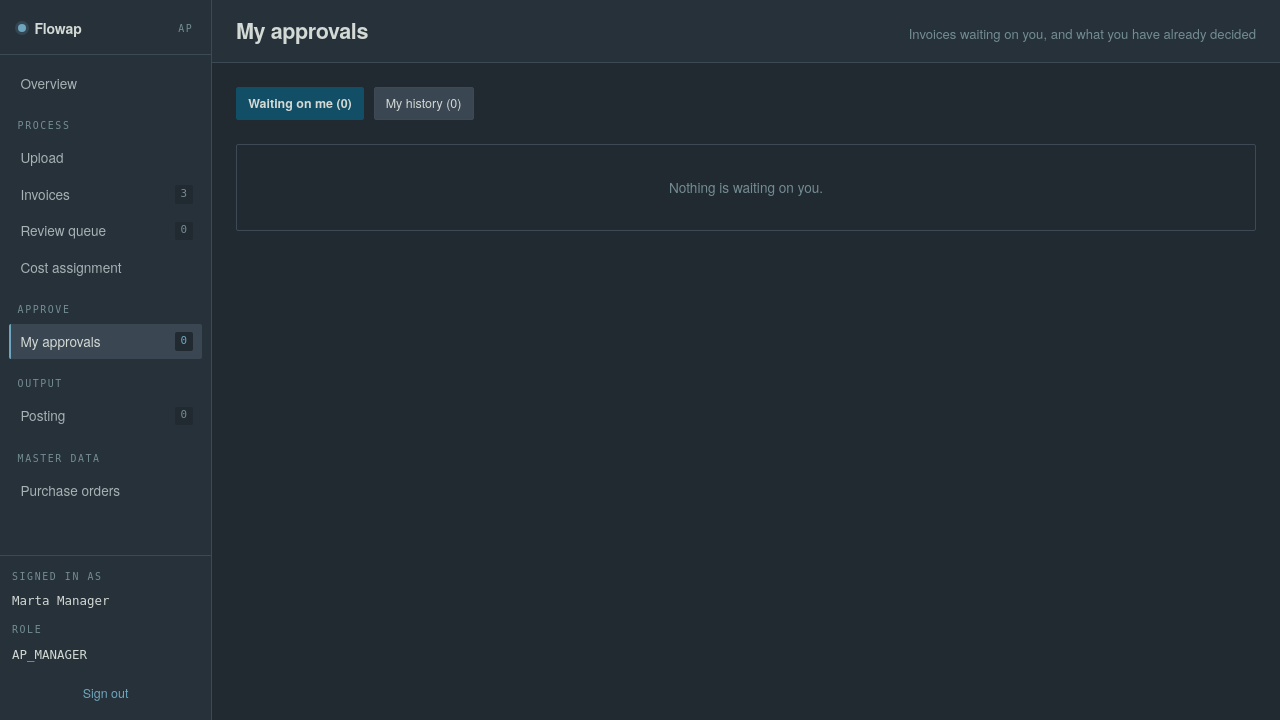
it: a token the server will not accept › signs out on request
The width and height of the screenshot is (1280, 720).
Click the button "Sign out": point(106, 693) x1=12 y1=680 x2=199 y2=707
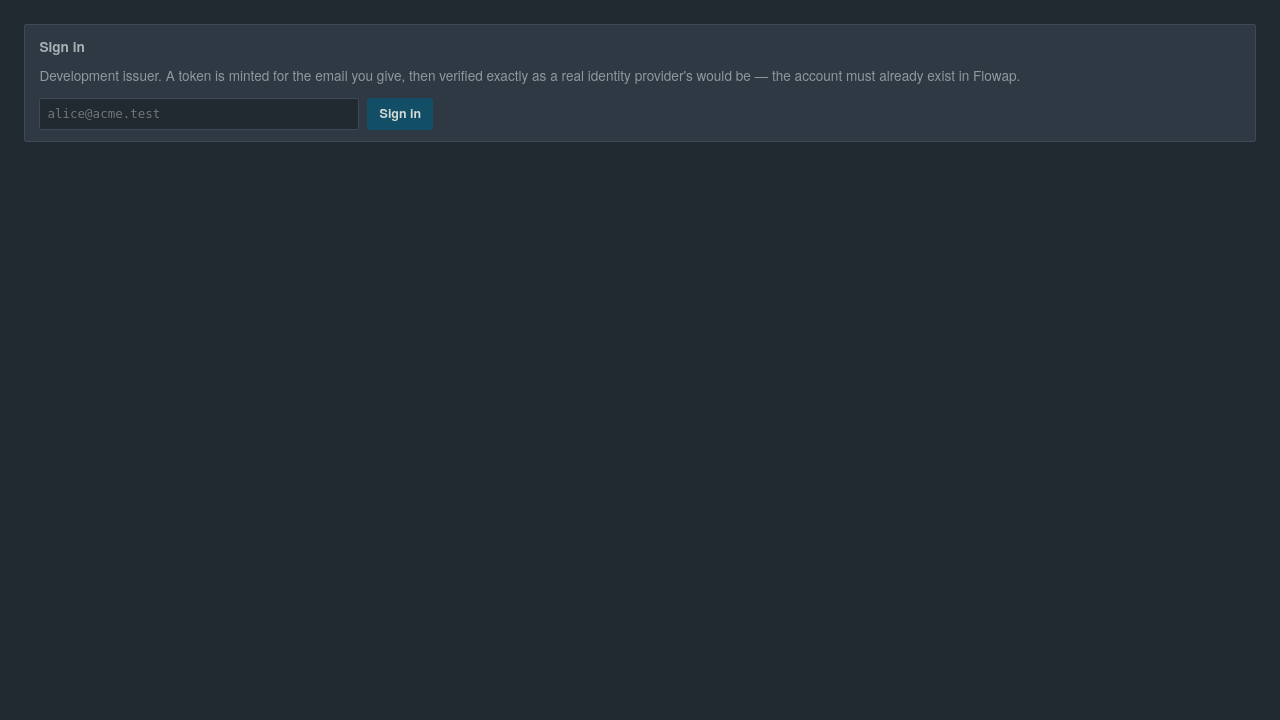
expect the field with placeholder "alice@acme.test" is shown: met, box x1=39 y1=98 x2=359 y2=130
